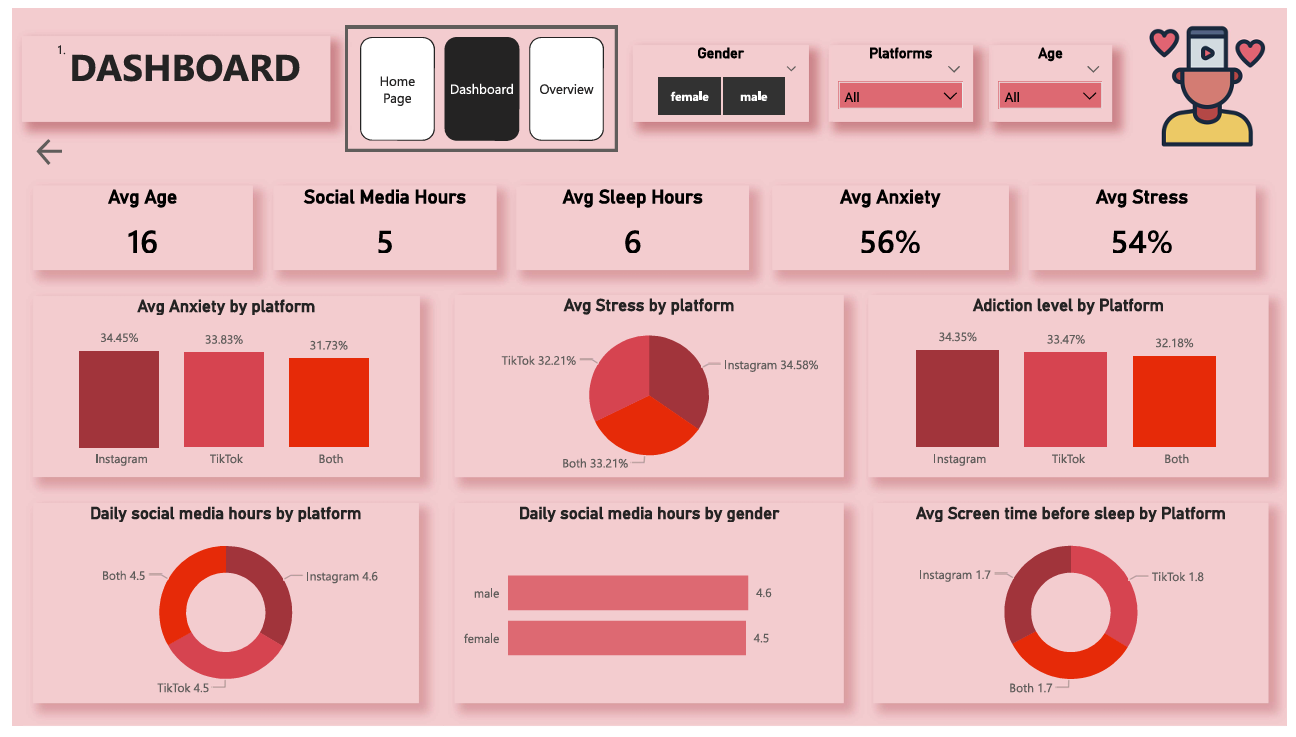

What the dashboard file says about the page in this screenshot:
{"tool":"powerbi","page":{"name":"Dashboard","canvas":[1280,720],"ordinal":1},"visuals":[{"type":"cardVisual","title":"Avg Age","fields":{"Data":["Teen_Mental_Health_Dataset.Avg Age"]},"box":[20,176.7,220.9,85.5],"z":0},{"type":"cardVisual","title":"Avg Anxiety","fields":{"Data":["Teen_Mental_Health_Dataset.Avg Anxiety %"]},"box":[762.6,176.7,238,85.5],"z":1000},{"type":"cardVisual","title":"Avg Sleep Hours","fields":{"Data":["Teen_Mental_Health_Dataset.Avg sleep"]},"box":[506,176.7,233.8,85.5],"z":2000},{"type":"cardVisual","title":"Social Media Hours","fields":{"Data":["Teen_Mental_Health_Dataset.Avg social media hours"]},"box":[262.3,176.7,223.8,85.5],"z":3000},{"type":"columnChart","title":"Avg Anxiety by platform","fields":{"Y":["Sum(Teen_Mental_Health_Dataset.anxiety_level)"],"Category":["Teen_Mental_Health_Dataset.platform_usage"]},"box":[20,287.9,389.1,182.4],"z":4000},{"type":"pieChart","title":"Avg Stress by platform","fields":{"Category":["Teen_Mental_Health_Dataset.platform_usage"],"Y":["Sum(Teen_Mental_Health_Dataset.stress_level)"]},"box":[443.9,287.4,391.3,182.2],"z":5000},{"type":"cardVisual","title":"Avg Stress","fields":{"Data":["Teen_Mental_Health_Dataset.Avg Stress %"]},"box":[1020.6,176.7,228.1,85.5],"z":6000},{"type":"columnChart","title":"Adiction level by Platform","fields":{"Category":["Teen_Mental_Health_Dataset.platform_usage"],"Y":["Divide(Sum(Teen_Mental_Health_Dataset.addiction_level), ScopedEval(Sum(Teen_Mental_Health_Dataset.addiction_level), []))"]},"box":[859.7,287.4,402.3,182.2],"z":7000},{"type":"donutChart","title":"Avg Screen time before sleep by Platform","fields":{"Category":["Teen_Mental_Health_Dataset.platform_usage"],"Y":["Avg(Teen_Mental_Health_Dataset.screen_time_before_sleep)"]},"box":[864.5,496.5,397.4,200.5],"z":8000},{"type":"slicer","title":"Age","fields":{"Values":["Teen_Mental_Health_Dataset.age"]},"box":[980.7,35.6,124,77],"z":9000},{"type":"textbox","box":[8.6,26.9,310.6,85.6],"z":10000},{"type":"slicer","title":"Platforms","fields":{"Values":["Teen_Mental_Health_Dataset.platform_usage"]},"box":[819.6,35.6,145.4,77],"z":11000},{"type":"slicer","title":"Gender","fields":{"Values":["Teen_Mental_Health_Dataset.gender"]},"box":[622.9,35.6,176.7,77],"z":12000},{"type":"image","box":[1120.4,11.4,159.6,132.6],"z":13000},{"type":"donutChart","fields":{"Category":["Teen_Mental_Health_Dataset.platform_usage"],"Y":["Avg(Teen_Mental_Health_Dataset.daily_social_media_hours)"]},"box":[19.6,496.5,388.9,200.5],"z":14000},{"type":"barChart","fields":{"Category":["Teen_Mental_Health_Dataset.gender"],"Y":["Avg(Teen_Mental_Health_Dataset.daily_social_media_hours)"]},"box":[443.9,496.5,391.3,200.5],"z":15000},{"type":"actionButton","box":[333.8,17.1,273.9,126],"z":16000},{"type":"pageNavigator","box":[348.5,28.1,245.8,103.9],"z":17000},{"type":"actionButton","box":[19.6,126,148,35.5],"z":18000}]}

Visuals, with their boxes in screenshot pixels (x1, y1, x2, y2), scaled from the page's 1280x720 canvas onto the 1296x737 screenshot:
"Avg Age" cardVisual: {"left": 20, "top": 181, "right": 244, "bottom": 268}
"Avg Anxiety" cardVisual: {"left": 772, "top": 181, "right": 1013, "bottom": 268}
"Avg Sleep Hours" cardVisual: {"left": 512, "top": 181, "right": 749, "bottom": 268}
"Social Media Hours" cardVisual: {"left": 266, "top": 181, "right": 492, "bottom": 268}
"Avg Anxiety by platform" columnChart: {"left": 20, "top": 295, "right": 414, "bottom": 481}
"Avg Stress by platform" pieChart: {"left": 449, "top": 294, "right": 846, "bottom": 481}
"Avg Stress" cardVisual: {"left": 1033, "top": 181, "right": 1264, "bottom": 268}
"Adiction level by Platform" columnChart: {"left": 870, "top": 294, "right": 1278, "bottom": 481}
"Avg Screen time before sleep by Platform" donutChart: {"left": 875, "top": 508, "right": 1278, "bottom": 713}
"Age" slicer: {"left": 993, "top": 36, "right": 1119, "bottom": 115}
textbox: {"left": 9, "top": 28, "right": 323, "bottom": 115}
"Platforms" slicer: {"left": 830, "top": 36, "right": 977, "bottom": 115}
"Gender" slicer: {"left": 631, "top": 36, "right": 810, "bottom": 115}
image: {"left": 1134, "top": 12, "right": 1295, "bottom": 147}
donutChart - Teen_Mental_Health_Dataset.platform_usage x Avg(Teen_Mental_Health_Dataset.daily_social_media_hours): {"left": 20, "top": 508, "right": 414, "bottom": 713}
barChart - Teen_Mental_Health_Dataset.gender x Avg(Teen_Mental_Health_Dataset.daily_social_media_hours): {"left": 449, "top": 508, "right": 846, "bottom": 713}
actionButton: {"left": 338, "top": 18, "right": 615, "bottom": 146}
pageNavigator: {"left": 353, "top": 29, "right": 602, "bottom": 135}
actionButton: {"left": 20, "top": 129, "right": 170, "bottom": 165}
